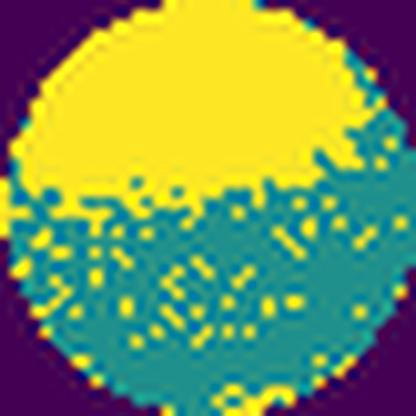Edge-Loc: (0, 0, 371, 210)
